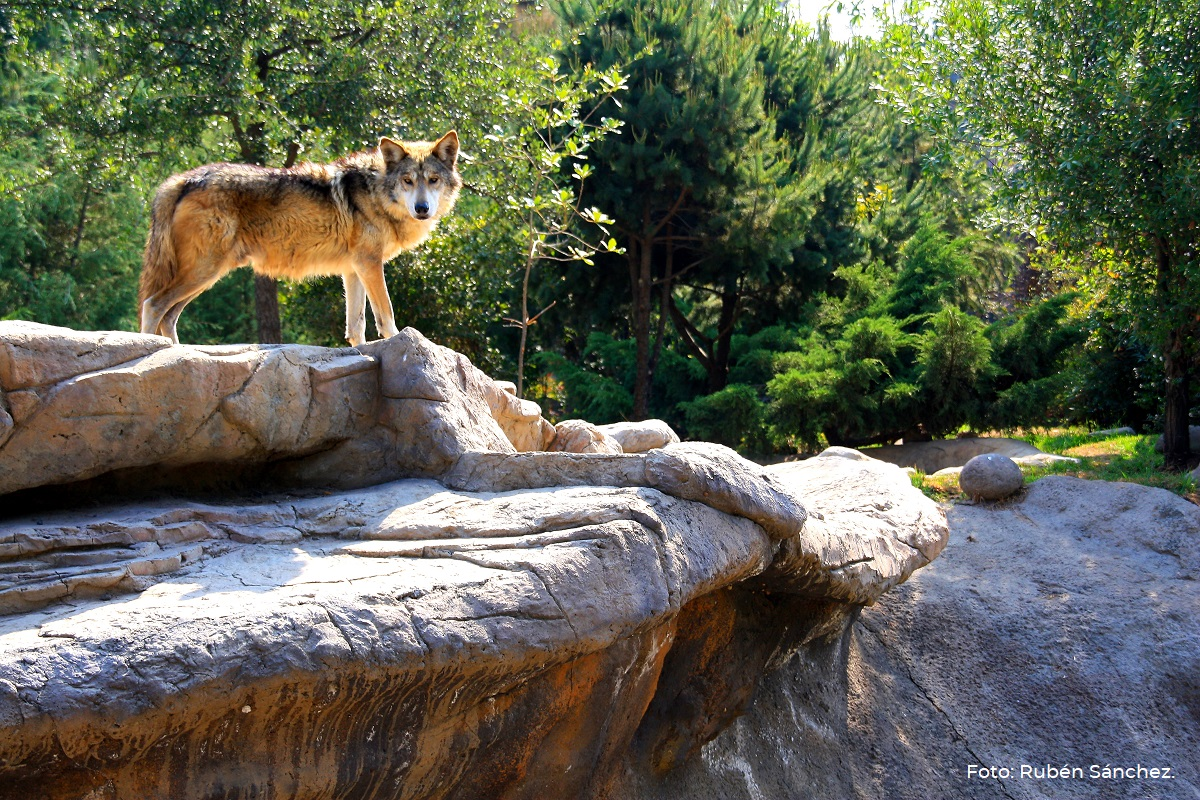Lobo: (120, 129, 492, 336)
